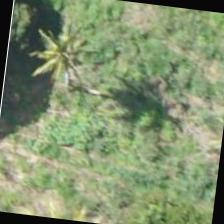Kelapa_Sawit: (21, 13, 122, 114)
